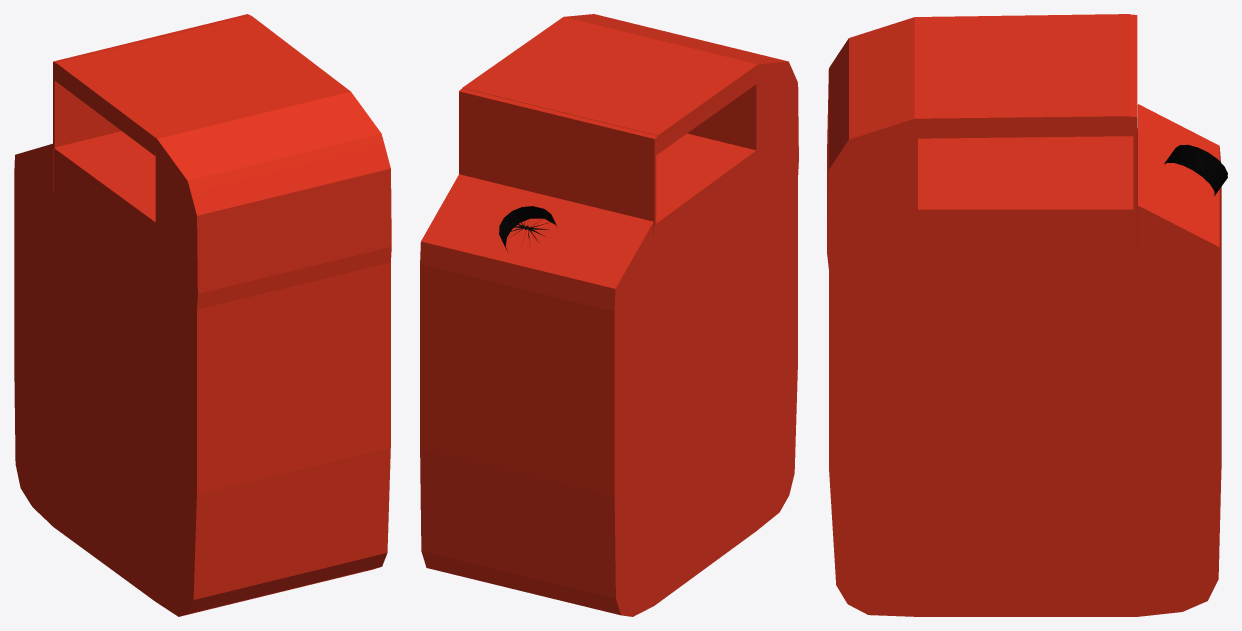
Rendered from gastank.fbx.
The picture shows the model from 3 angles, left to right: view 1: azimuth 30°, elevation 25°; view 2: azimuth 150°, elevation 25°; view 3: azimuth 270°, elevation 25°; orthographic projection. The views are drawn at different scales.
Visible parts, largest first — view 1: Cube; view 2: Cube; view 3: Cube.
Part boxes in pixels (x1,y1,x2,y2): Cube: [14, 14, 391, 616]; Cube: [420, 14, 798, 616]; Cube: [827, 14, 1227, 616].
Size of the model in its own units: 185 by 423 by 307.
